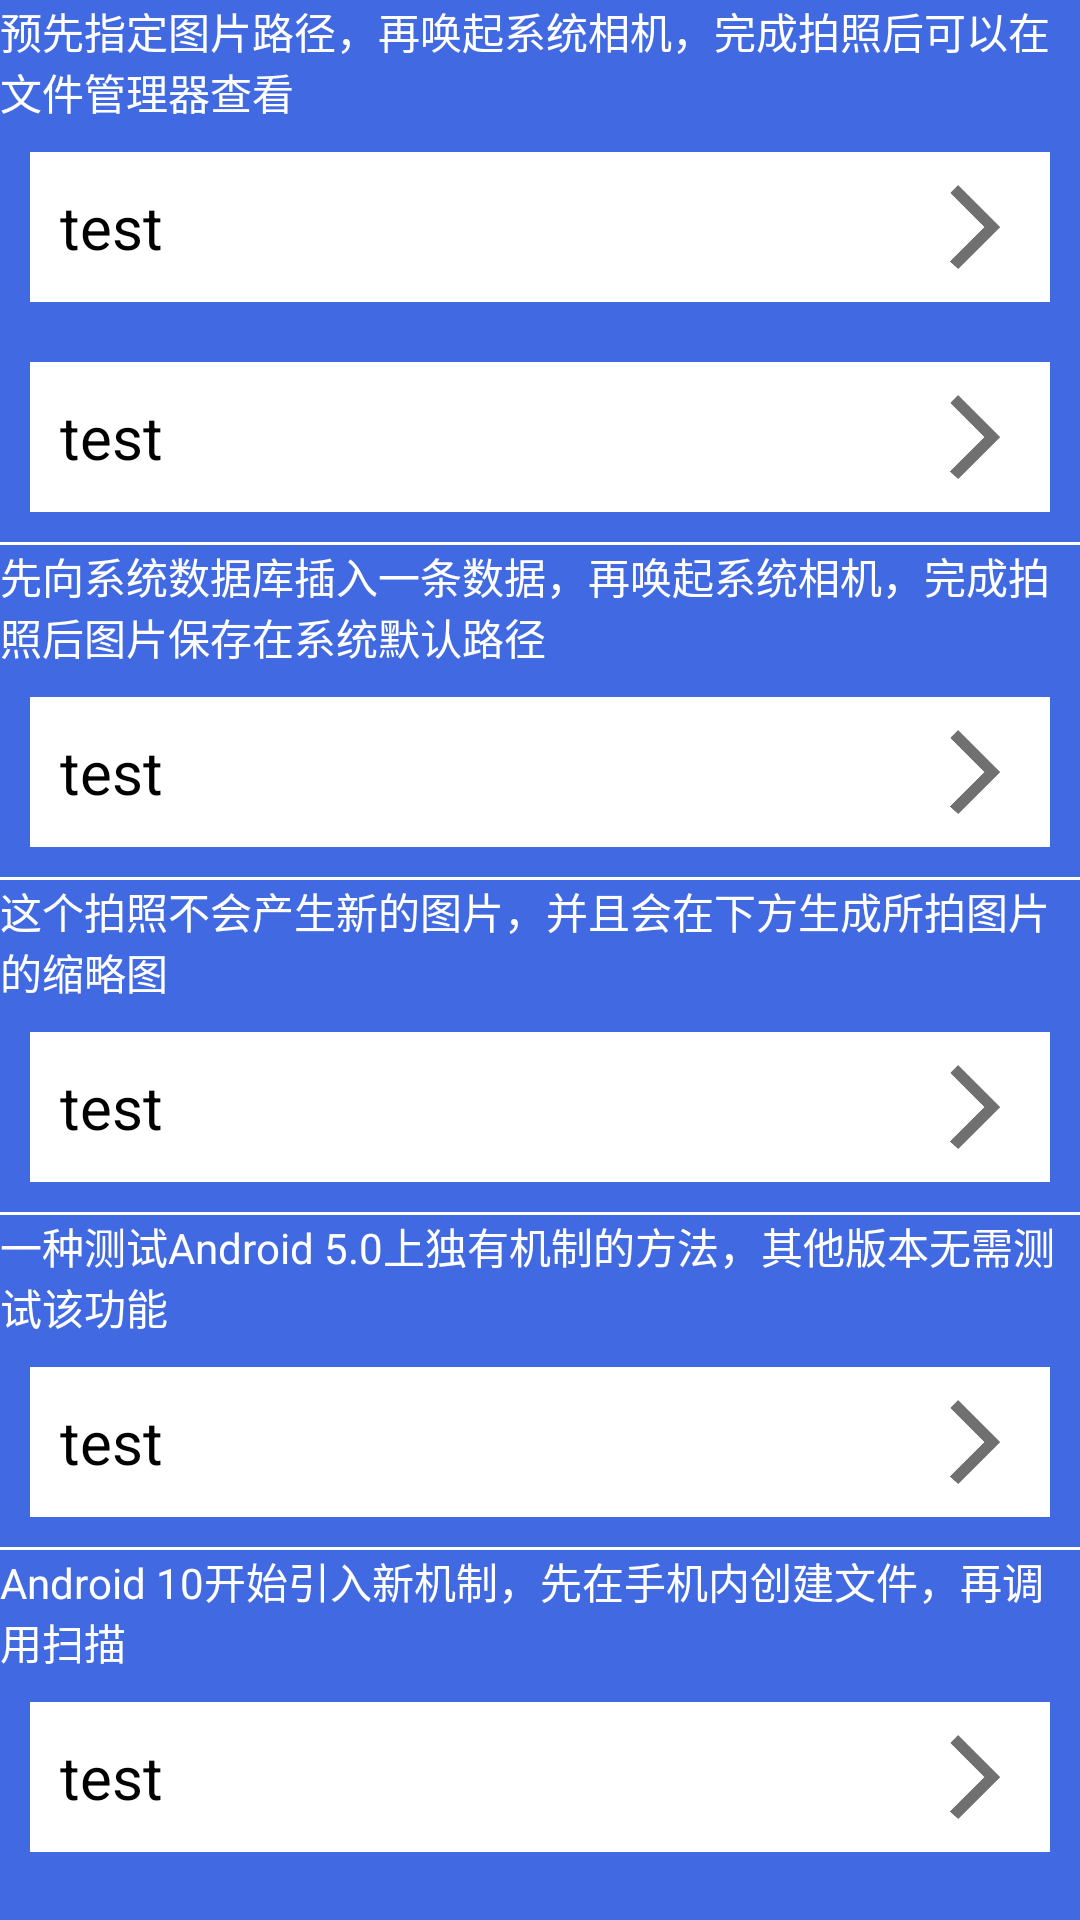

Named icons in this screenshot (1080px x 1920px) and their centers, (x=x, y=y):
arrow right: (x=975, y=227), (x=975, y=437), (x=975, y=772), (x=975, y=1107), (x=975, y=1442), (x=975, y=1777)
